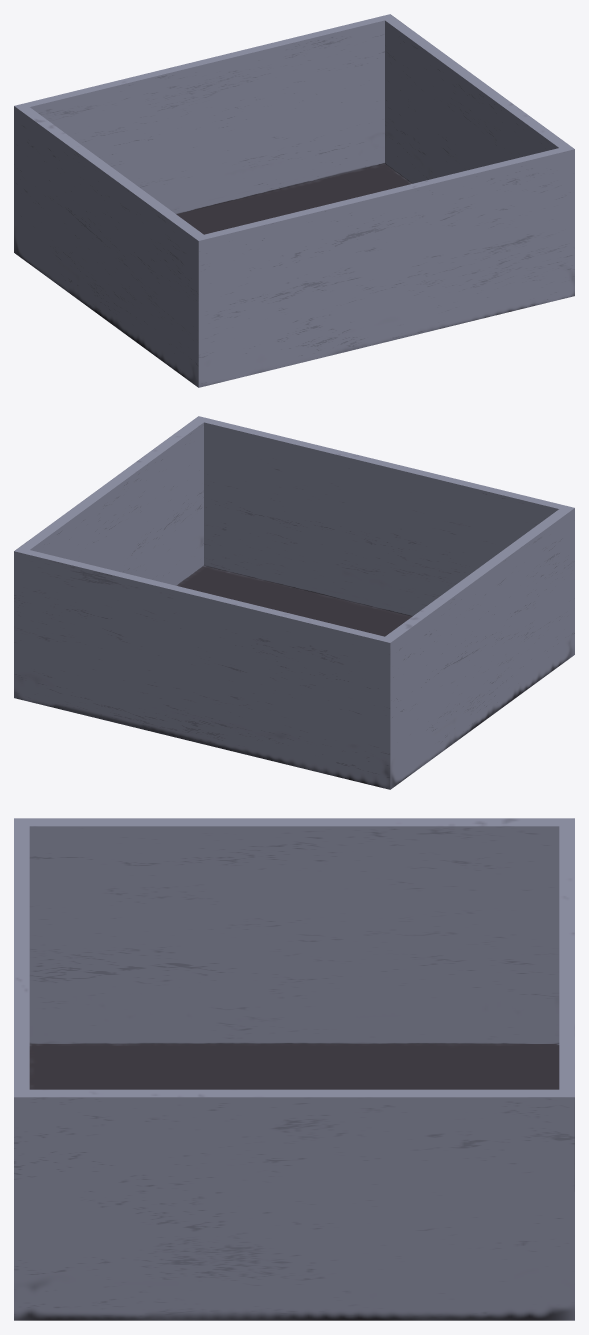
File: Schizophrenia_wall_ground.fbx
The picture shows the model from 3 angles, top to bottom: view 1: azimuth 30°, elevation 25°; view 2: azimuth 150°, elevation 25°; view 3: azimuth 270°, elevation 25°; orthographic projection. The views are drawn at different scales.
Visible parts, largest first — view 1: room; view 2: room; view 3: room.
Boxes of the visible parts, x1,y1,x2,y2 form: room: (14,14,574,387); room: (14,416,574,789); room: (14,818,574,1320).
Bounding box in the file's own units: 3637 × 1356 × 3091.
Materials: 1 (1 with a texture image).
